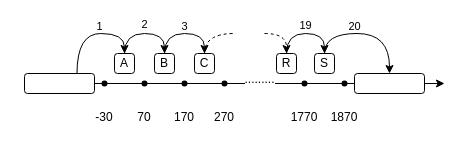
The diagram is 470 pixels wide and 141 high, and some of its shapes have lost their labels. Here are the shapes that lost their labels. From the top down, the centre of each, then its label:
the point at 59,83: Cléopâtre
the point at 389,83: Elizabeth II
